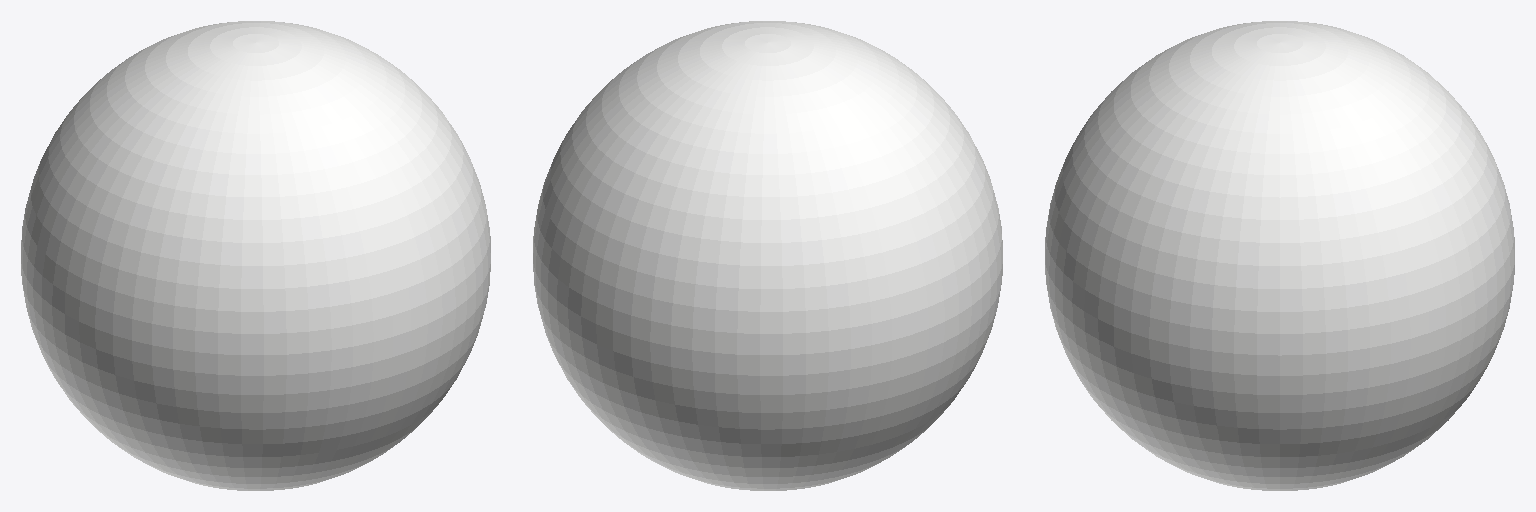
File: WhiteBall.obj
The picture shows the model from 3 angles: view 1: azimuth 30°, elevation 25°; view 2: azimuth 150°, elevation 25°; view 3: azimuth 270°, elevation 25°; orthographic projection.
Visible parts, largest first — view 1: object_1; view 2: object_1; view 3: object_1.
Boxes of the visible parts, <box> form: object_1: <box>21,21,490,490</box>; object_1: <box>533,21,1002,490</box>; object_1: <box>1045,21,1514,490</box>.
Bounding box in the file's own units: 2 × 2 × 2.